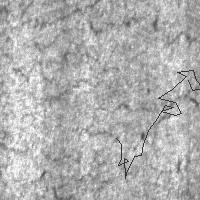crazing: (15, 97, 198, 181), (12, 8, 167, 91), (116, 70, 200, 178)
